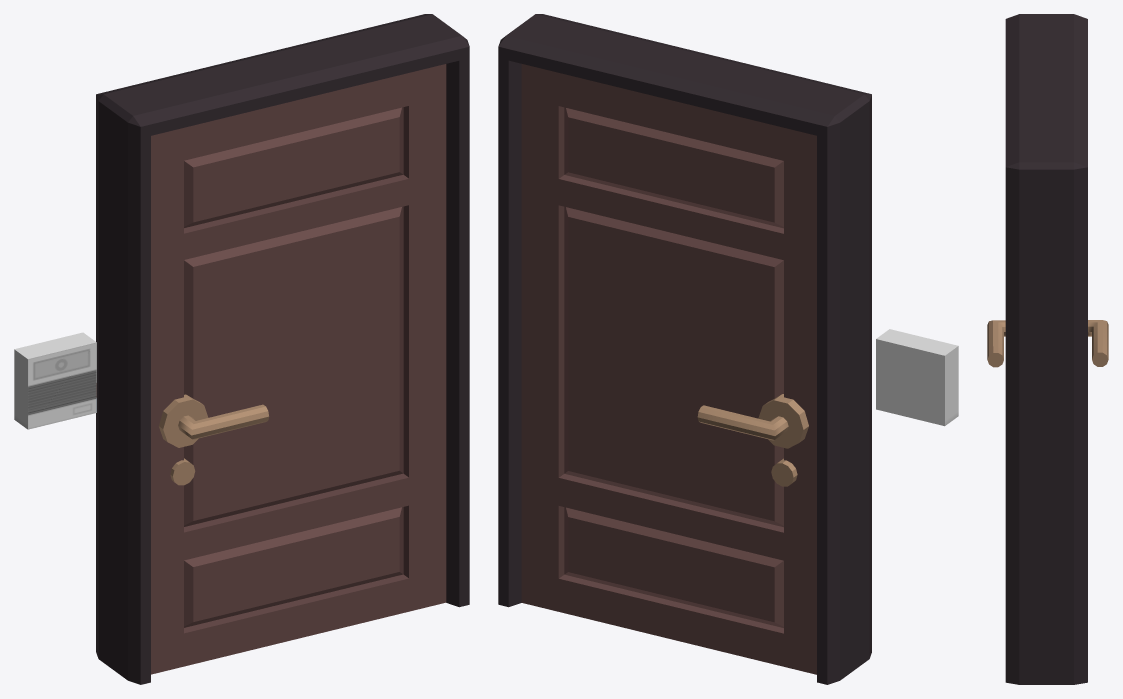
File: mod_door_room.fbx
The picture shows the model from 3 angles, left to right: view 1: azimuth 30°, elevation 25°; view 2: azimuth 150°, elevation 25°; view 3: azimuth 270°, elevation 25°; orthographic projection. The views are drawn at different scales.
Parts seen in each view (by area): view 1: mod_door_room; view 2: mod_door_room; view 3: mod_door_room.
Part boxes in pixels (x1=…): mod_door_room: x1=14, y1=14, x2=469, y2=684; mod_door_room: x1=498, y1=14, x2=958, y2=684; mod_door_room: x1=987, y1=14, x2=1108, y2=684.
Bounding box in the file's own units: 1.2 × 1.49 × 0.3154.
Materials: 1 (1 with a texture image).
